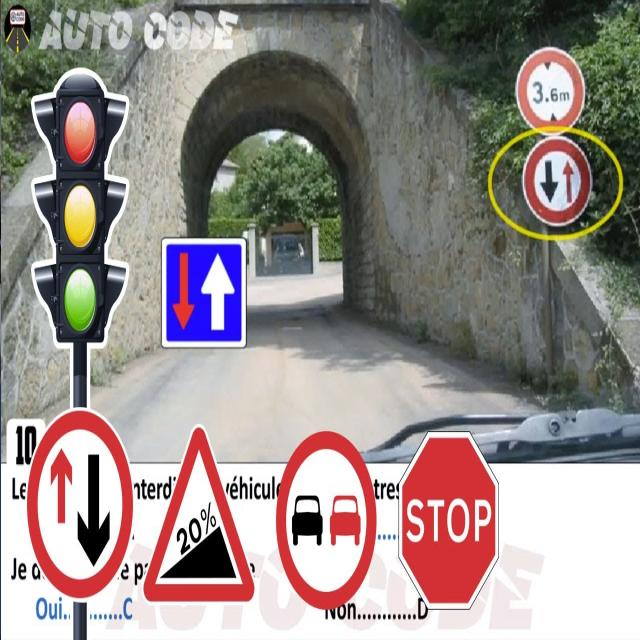forbidden: (27, 406, 132, 600), (278, 424, 380, 614), (512, 46, 589, 136), (522, 138, 598, 226)
indication: (162, 236, 249, 352)
let_go: (397, 424, 502, 611)
slope_danger: (144, 424, 258, 603)
